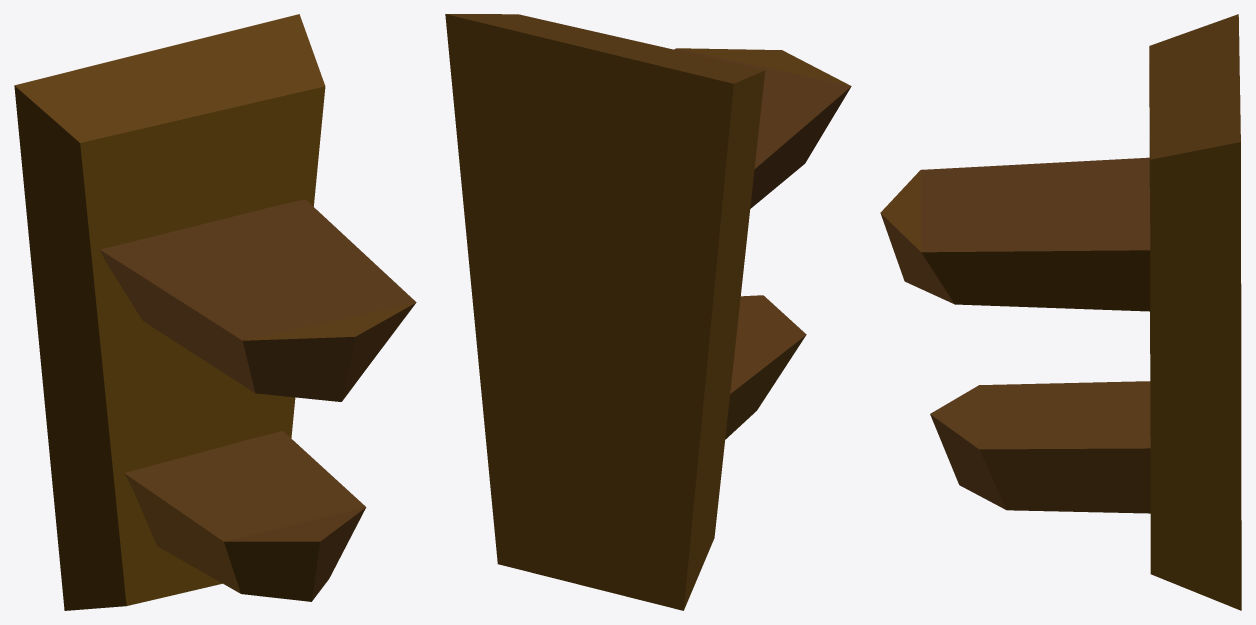
Rendered from syn_TorchHolder.glb.
3 renders of one model, left to right at view 1: azimuth 30°, elevation 25°; view 2: azimuth 150°, elevation 25°; view 3: azimuth 270°, elevation 25°, orthographic. The views are drawn at different scales.
Visible parts, largest first — view 1: TorchHolder; view 2: TorchHolder; view 3: TorchHolder.
Part boxes in pixels (x1,y1,x2,y2): TorchHolder: [14, 14, 416, 610]; TorchHolder: [445, 14, 851, 610]; TorchHolder: [880, 14, 1241, 610].
Bounding box in the file's own units: 0.1678 × 0.3014 × 0.1992.
